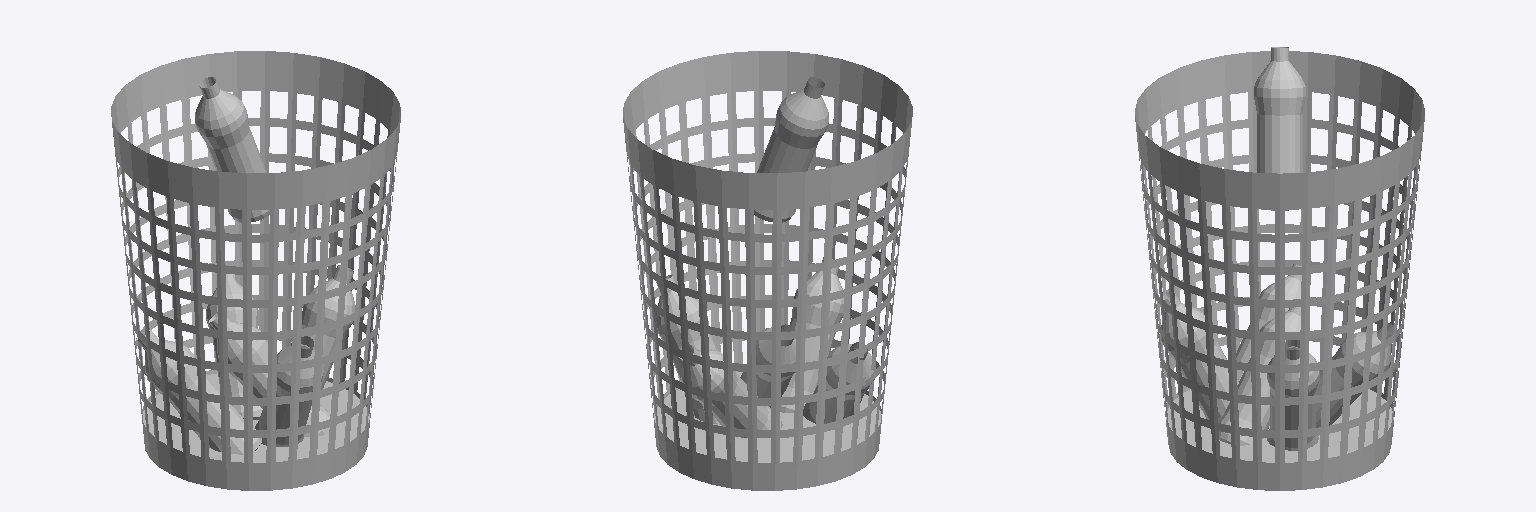
The model's file is DustbinWithCan_000023.obj.
The picture shows the model from 3 angles: view 1: azimuth 30°, elevation 25°; view 2: azimuth 150°, elevation 25°; view 3: azimuth 270°, elevation 25°; orthographic projection.
Parts seen in each view (by area): view 1: Cylinder, Plane.006, Plane.005, Plane.001, Plane.004, Plane.003, Plane.002; view 2: Cylinder, Plane.006, Plane.001, Plane.002, Plane.005, Plane.003, Plane.004; view 3: Cylinder, Plane.006, Plane.001, Plane.004, Plane.003, Plane.002, Plane.005.
Boxes of the visible parts, box(x1,y1,x2,y2) form: Cylinder: box(111, 51, 400, 490); Plane.006: box(195, 77, 269, 222); Plane.005: box(136, 328, 261, 454); Plane.001: box(255, 336, 323, 446); Plane.004: box(209, 313, 329, 436); Plane.003: box(291, 265, 354, 389); Plane.002: box(206, 274, 262, 419); Cylinder: box(623, 51, 912, 490); Plane.006: box(754, 77, 828, 222); Plane.001: box(770, 257, 843, 412); Plane.002: box(679, 344, 782, 437); Plane.005: box(803, 342, 875, 423); Plane.003: box(656, 275, 720, 424); Plane.004: box(740, 324, 795, 406); Cylinder: box(1135, 51, 1424, 490); Plane.006: box(1254, 47, 1305, 210); Plane.001: box(1161, 291, 1238, 421); Plane.004: box(1218, 307, 1300, 445); Plane.003: box(1267, 340, 1319, 450); Plane.002: box(1316, 323, 1393, 427); Plane.005: box(1236, 264, 1301, 380).
Size of the model in its own units: 2.6 by 3.71 by 2.6.